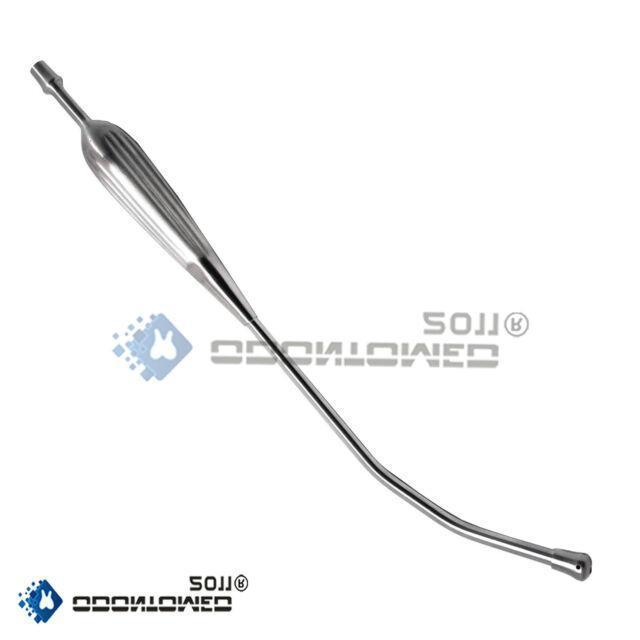Yankauer: (28, 62, 595, 581)
